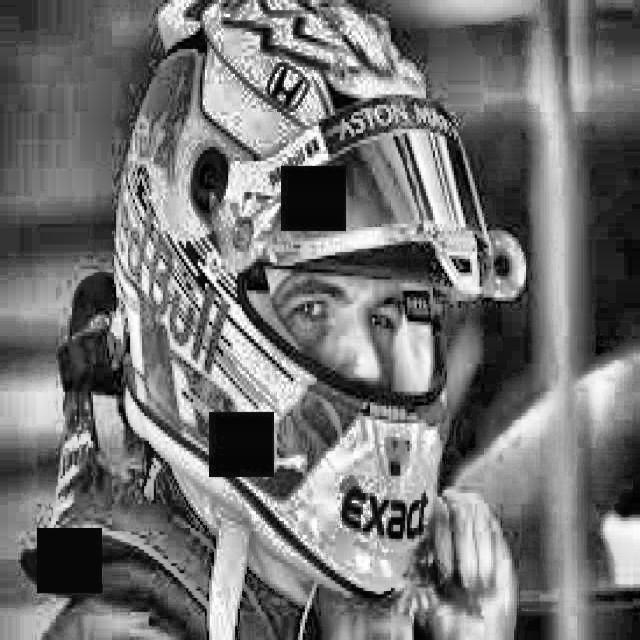Helmet: (98, 0, 526, 603)
